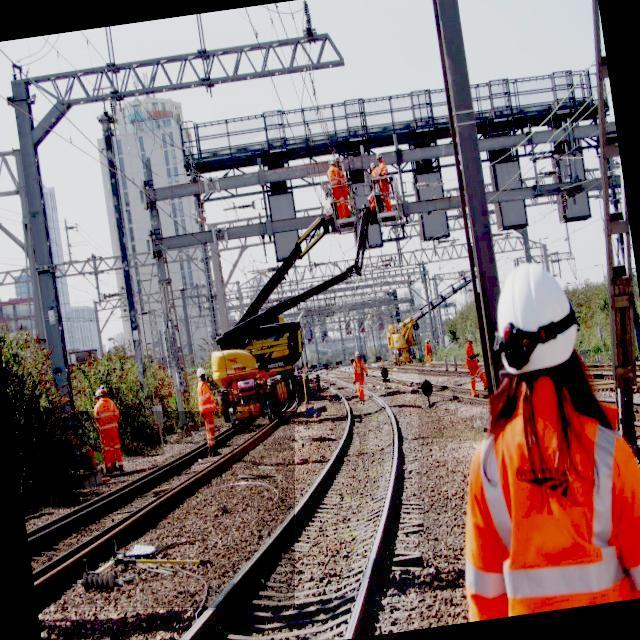rail: (159, 370, 419, 640), (24, 413, 296, 609)
